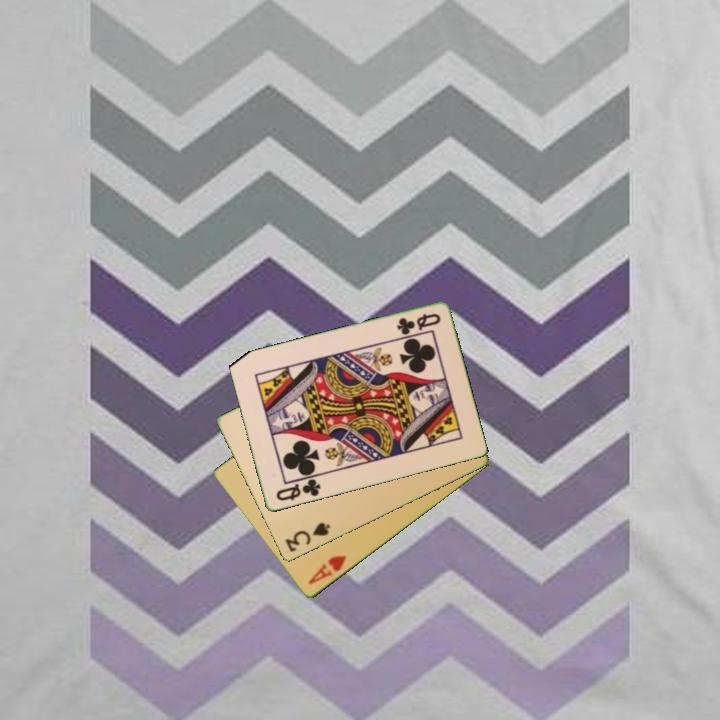3s: (282, 519, 333, 555)
Ah: (304, 552, 350, 588)
Qc: (272, 475, 324, 504), (393, 310, 443, 338)
